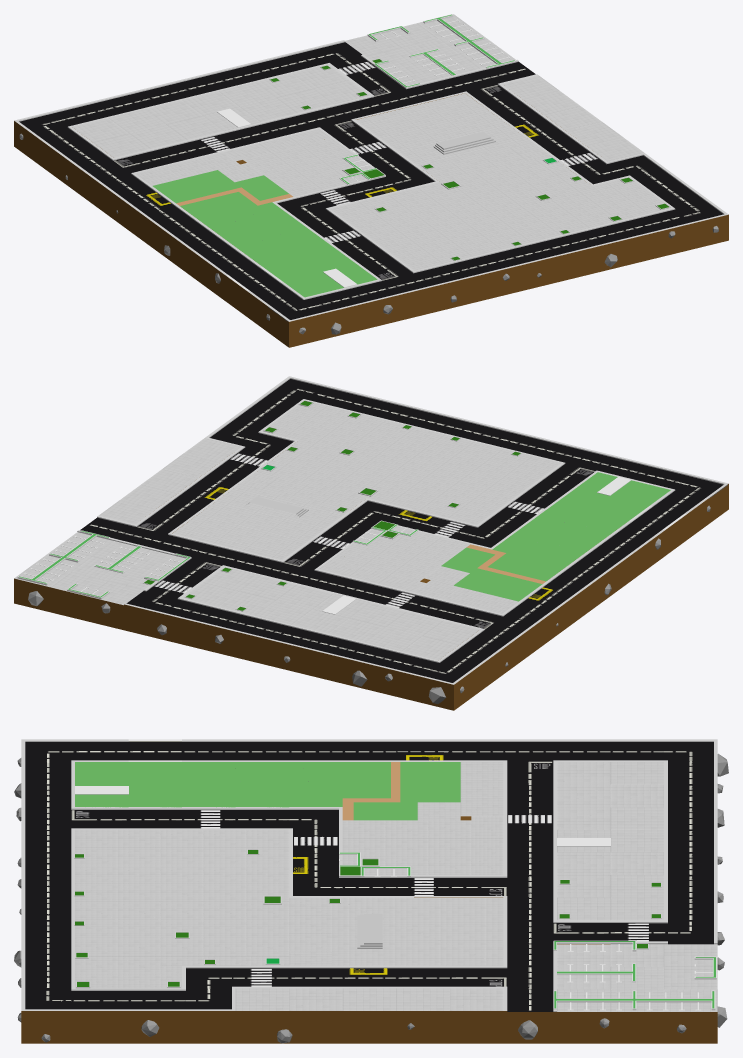
Rendered from base_floor.glb.
3 views of the same model, one above another, from view 1: azimuth 30°, elevation 25°; view 2: azimuth 150°, elevation 25°; view 3: azimuth 270°, elevation 25° (orthographic). The views are drawn at different scales.
Parts seen in each view (by area): view 1: Plane.089_Marcapiede_0, Plane.170_Colore_0, Plane.012_Colore_0, Plane.168_Colore_0, Plane.021_Colore_0, Plane.023_Colore_0, Plane.018_Colore_0, Plane.067_Colore_0, Plane.020_Colore_0, Plane.019_Colore_0, Plane.005_Colore_0, Plane.006_Colore_0 (+119 smaller); view 2: Plane.089_Marcapiede_0, Plane.069_Colore_0, Plane.170_Colore_0, Plane.168_Colore_0, Plane.044_Colore_0, Plane.047_Colore_0, Plane.051_Colore_0, Plane.052_Colore_0, Plane.050_Colore_0, Plane.066_Colore_0, Plane.053_Colore_0, Plane.049_Colore_0 (+115 smaller); view 3: Plane.089_Marcapiede_0, Plane.069_Colore_0, Plane.170_Colore_0, Plane.168_Colore_0, Plane.072_Colore_0, Plane.073_Colore_0, Plane.068_Colore_0, Plane.080_Colore_0, Plane.154_Colore_0, Plane.155_Colore_0, Plane.157_Colore_0, Plane.156_Colore_0 (+171 smaller).
Boxes of the visible parts, x1=… form: Plane.089_Marcapiede_0: x1=356, y1=93, x2=532, y2=169; Plane.170_Colore_0: x1=152, y1=170, x2=244, y2=205; Plane.012_Colore_0: x1=268, y1=297, x2=325, y2=347; Plane.168_Colore_0: x1=216, y1=175, x2=292, y2=210; Plane.021_Colore_0: x1=525, y1=235, x2=582, y2=284; Plane.023_Colore_0: x1=598, y1=217, x2=655, y2=267; Plane.018_Colore_0: x1=415, y1=262, x2=472, y2=311; Plane.067_Colore_0: x1=635, y1=208, x2=692, y2=258; Plane.020_Colore_0: x1=488, y1=244, x2=545, y2=293; Plane.019_Colore_0: x1=451, y1=253, x2=508, y2=302; Plane.005_Colore_0: x1=305, y1=288, x2=362, y2=338; Plane.006_Colore_0: x1=341, y1=279, x2=398, y2=329; Plane.089_Marcapiede_0: x1=172, y1=484, x2=349, y2=560; Plane.069_Colore_0: x1=14, y1=578, x2=161, y2=638; Plane.170_Colore_0: x1=454, y1=565, x2=545, y2=601; Plane.168_Colore_0: x1=441, y1=544, x2=528, y2=572; Plane.044_Colore_0: x1=420, y1=669, x2=474, y2=710; Plane.047_Colore_0: x1=380, y1=651, x2=440, y2=702; Plane.051_Colore_0: x1=270, y1=625, x2=327, y2=674; Plane.052_Colore_0: x1=234, y1=615, x2=291, y2=665; Plane.050_Colore_0: x1=307, y1=633, x2=364, y2=683; Plane.066_Colore_0: x1=160, y1=598, x2=217, y2=647; Plane.053_Colore_0: x1=197, y1=607, x2=254, y2=656; Plane.049_Colore_0: x1=344, y1=642, x2=401, y2=692; Plane.089_Marcapiede_0: x1=332, y1=897, x2=503, y2=965; Plane.069_Colore_0: x1=557, y1=920, x2=717, y2=1043; Plane.170_Colore_0: x1=391, y1=762, x2=460, y2=802; Plane.168_Colore_0: x1=342, y1=784, x2=417, y2=820; Plane.072_Colore_0: x1=71, y1=988, x2=128, y2=1043; Plane.073_Colore_0: x1=128, y1=988, x2=185, y2=1043; Plane.068_Colore_0: x1=21, y1=988, x2=71, y2=1043; Plane.080_Colore_0: x1=186, y1=988, x2=235, y2=1043; Plane.154_Colore_0: x1=342, y1=1011, x2=396, y2=1043; Plane.155_Colore_0: x1=450, y1=1011, x2=503, y2=1043; Plane.157_Colore_0: x1=289, y1=1011, x2=342, y2=1043; Plane.156_Colore_0: x1=396, y1=1011, x2=449, y2=1043.
Size of the model in its own units: 122 by 8.16 by 134.
5 materials, 4 textured.
